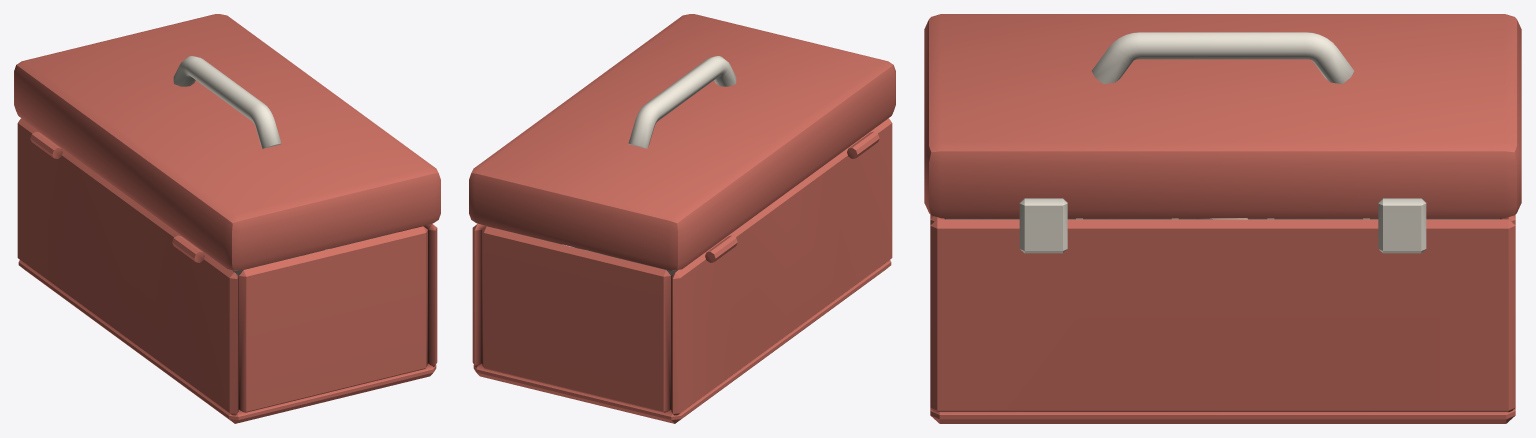
Rendered from tacklebox.glb.
The picture shows the model from 3 angles, left to right: view 1: azimuth 30°, elevation 25°; view 2: azimuth 150°, elevation 25°; view 3: azimuth 270°, elevation 25°; orthographic projection. The views are drawn at different scales.
Parts seen in each view (by area): view 1: LID, PART; view 2: LID, PART; view 3: LID, PART.
Boxes of the visible parts, x1,y1,x2,y2 form: LID: [14, 14, 440, 270]; PART: [17, 118, 437, 423]; LID: [469, 14, 895, 270]; PART: [472, 118, 892, 423]; LID: [924, 14, 1521, 253]; PART: [930, 215, 1515, 423].
Bounding box in the file's own units: 0.297 × 0.302 × 0.5.
